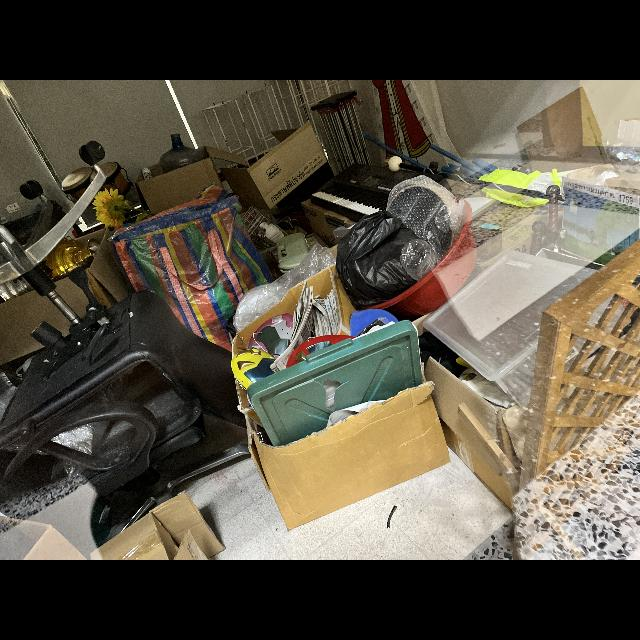cardboard_box: (237, 366, 446, 530), (218, 120, 328, 212), (130, 135, 250, 215), (94, 496, 220, 560)
